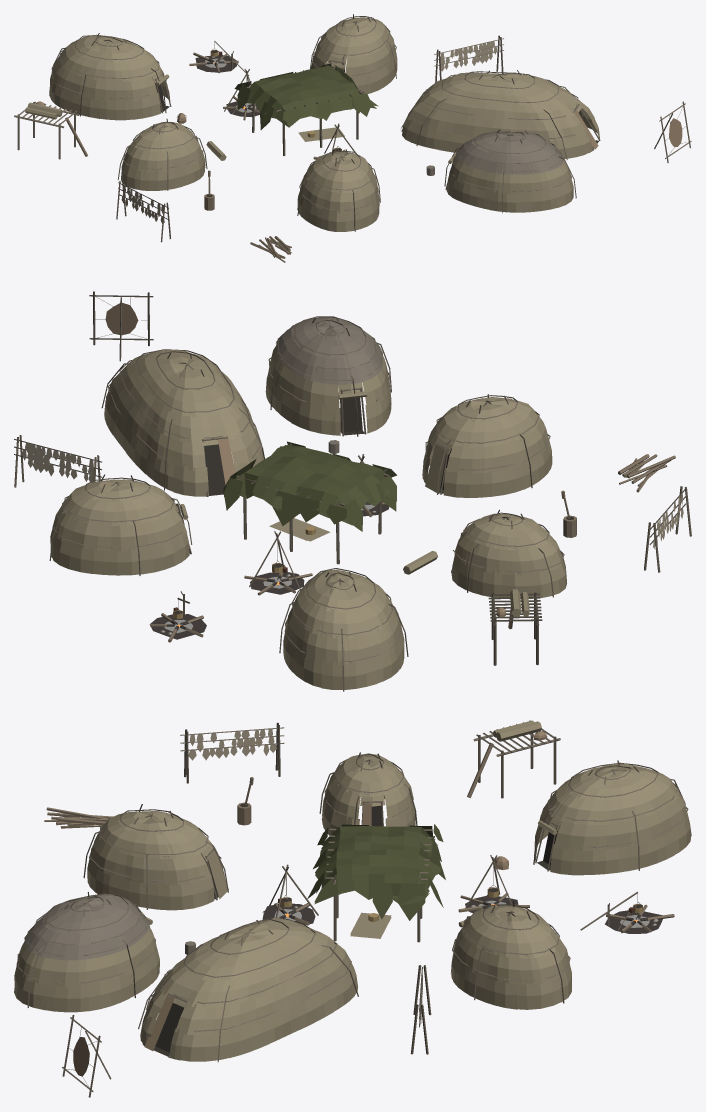
File: potawatomi_camp_1812_south_bend__camp_1812.glb
The picture shows the model from 3 angles, top to bottom: view 1: azimuth 30°, elevation 25°; view 2: azimuth 150°, elevation 25°; view 3: azimuth 270°, elevation 25°; orthographic projection. The views are drawn at different scales.
Parts seen in each view (by area): view 1: potawatomi_camp_1812_south_bend__camp_1812; view 2: potawatomi_camp_1812_south_bend__camp_1812; view 3: potawatomi_camp_1812_south_bend__camp_1812.
Part boxes in pixels (x1,y1,x2,y2): potawatomi_camp_1812_south_bend__camp_1812: [14, 14, 691, 262]; potawatomi_camp_1812_south_bend__camp_1812: [14, 291, 691, 691]; potawatomi_camp_1812_south_bend__camp_1812: [14, 720, 691, 1097].
Bounding box in the file's own units: 25.35 × 3.08 × 21.86.
